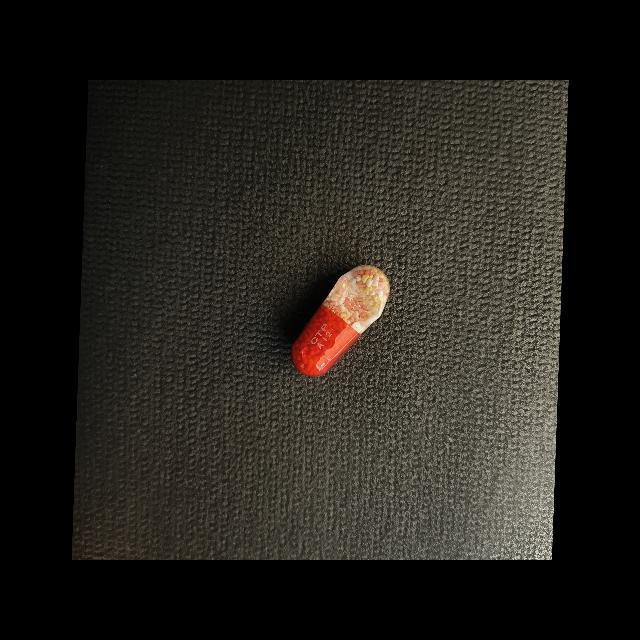Defective Capsule: (291, 265, 390, 376)
